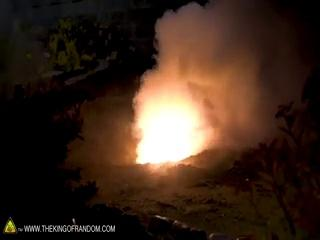Fire: (137, 73, 220, 174)
